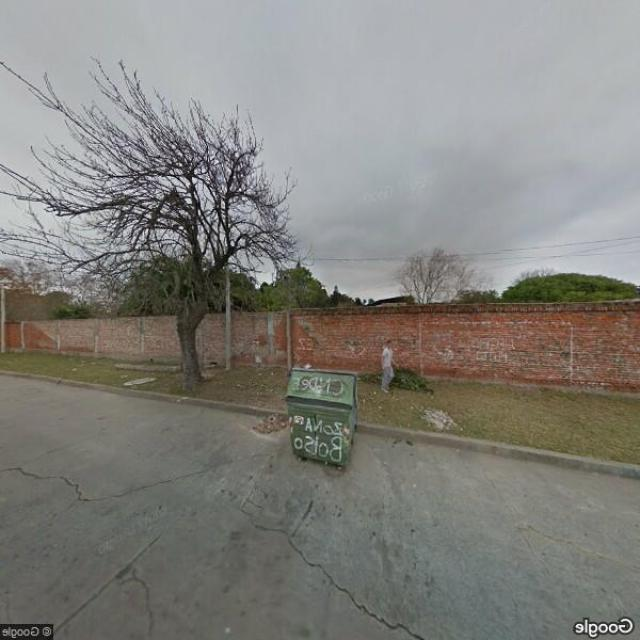garbage container: (275, 362, 364, 488)
